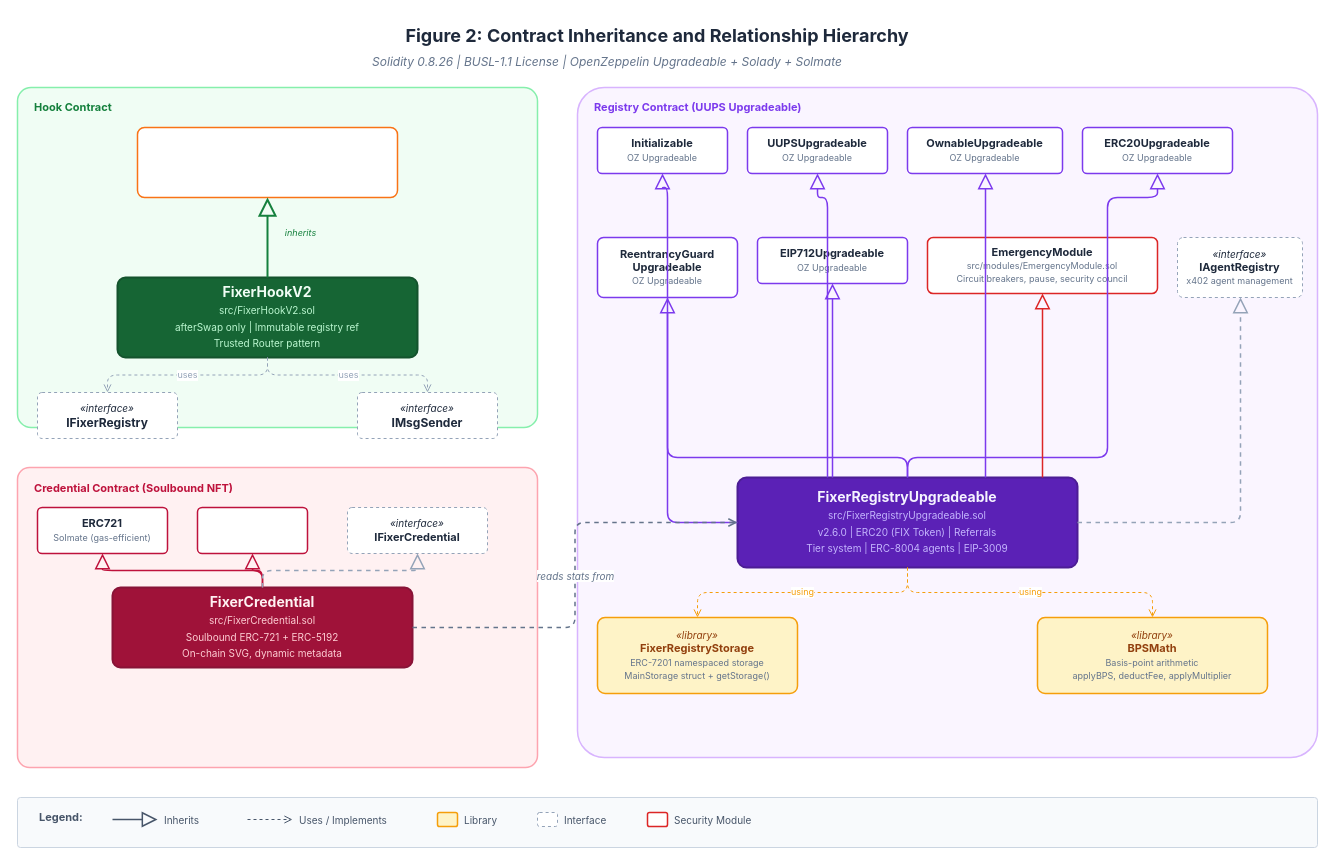
Some shapes in this 1336 by 865 pixel diagram are drawn without their labels. The centre of each missing label's shape, as x and y in pixels:
"BaseHook v4-periphery/src/utils/BaseHook.sol Uniswap v4 hook base class" belongs at (x=267, y=162).
"Ownable Solady" belongs at (x=252, y=530).
